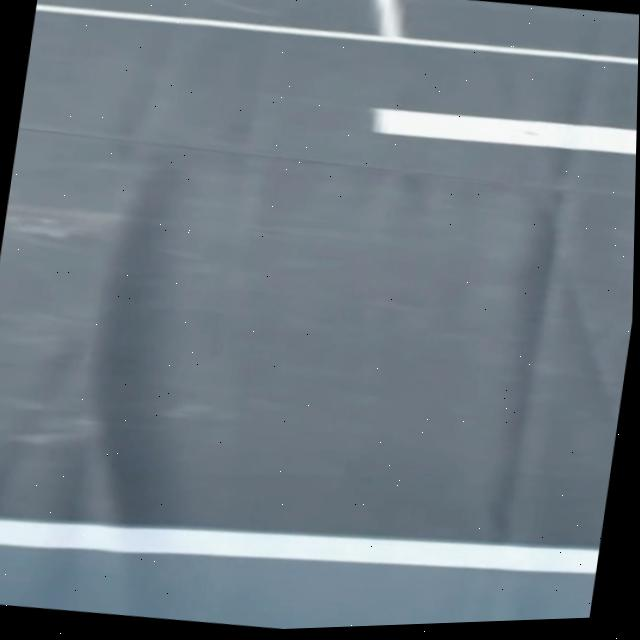center: (373, 108, 637, 153)
left: (0, 519, 599, 573)
